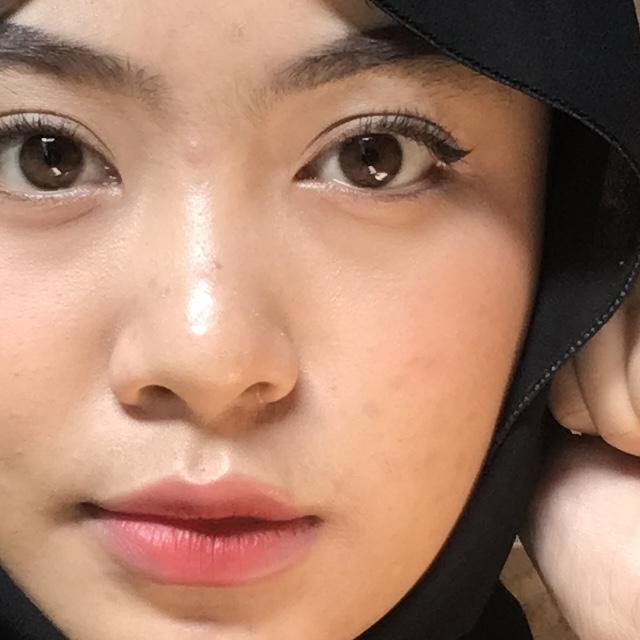ibu: (480, 206, 640, 640)
